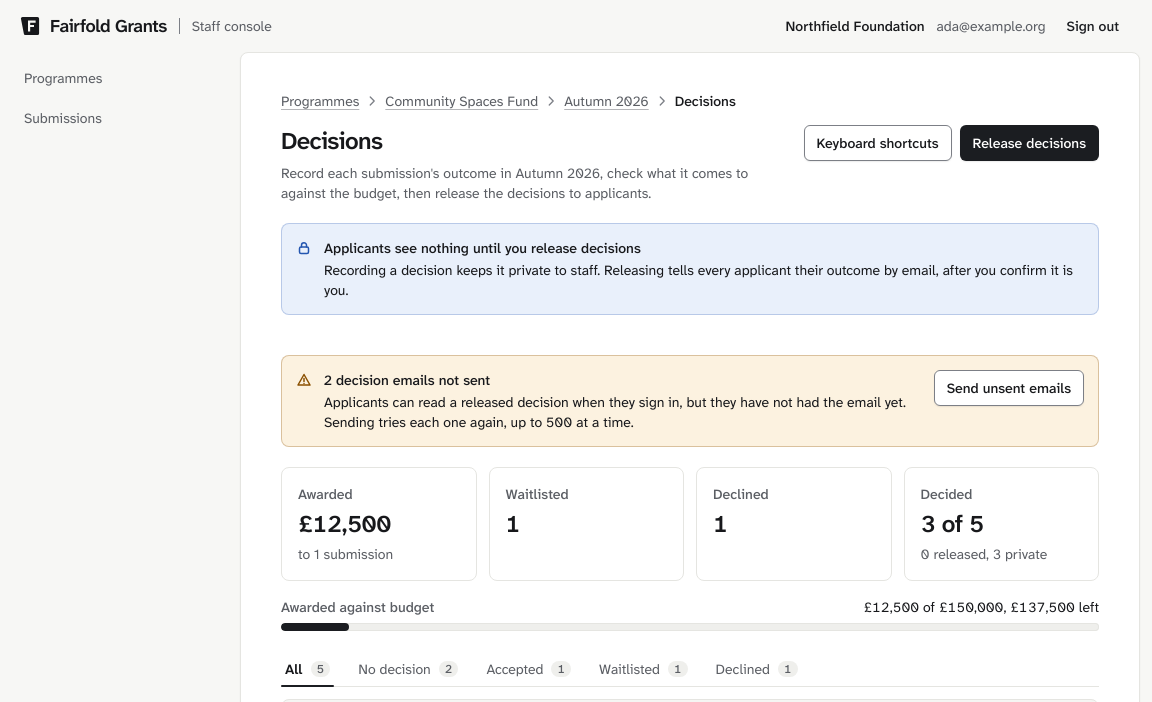
the decisions of a round › offers to send emails that did not go
Expected: the text "2 decision emails not sent" is shown, top-left (324, 371), bottom-right (490, 389)
Click the button "Send unsent emails": (1009, 388) top-left (934, 370), bottom-right (1084, 406)
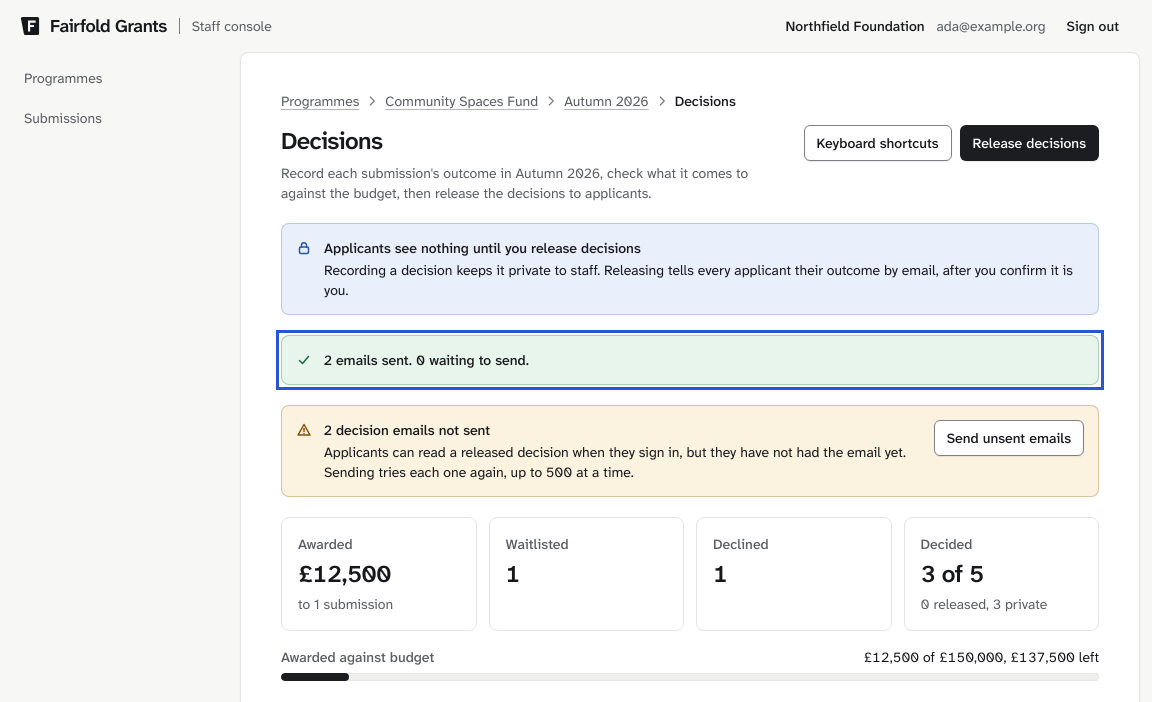
Expected: the text "2 emails sent. 0 waiting to send." is shown, top-left (324, 351), bottom-right (529, 369)
